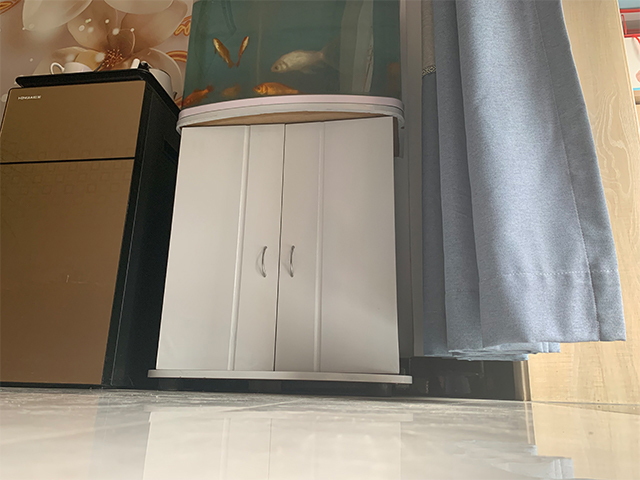cabinet: (146, 94, 416, 395), (1, 68, 181, 391)
curtain: (417, 1, 627, 366)
